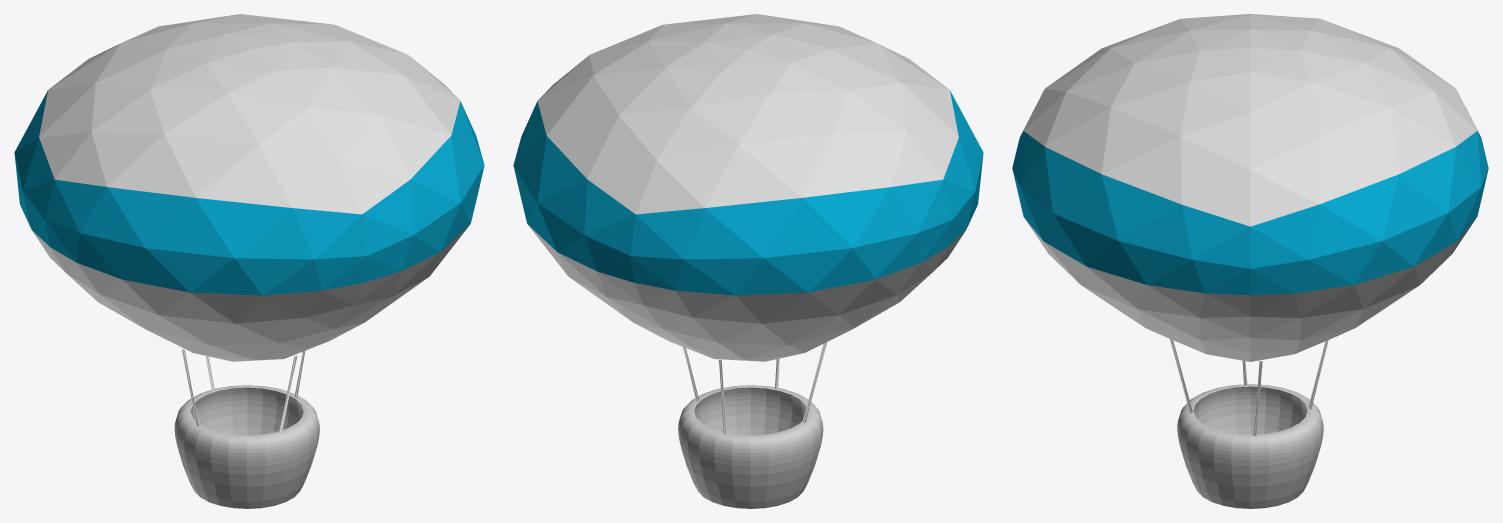
3 views of the same model, side by side, from view 1: azimuth 30°, elevation 25°; view 2: azimuth 150°, elevation 25°; view 3: azimuth 270°, elevation 25° (orthographic).
Parts seen in each view (by area): view 1: 气球, 底座; view 2: 气球, 底座; view 3: 气球, 底座.
Boxes of the visible parts, x1=… form: 气球: x1=14, y1=14, x2=484, y2=361; 底座: x1=174, y1=385, x2=319, y2=508; 气球: x1=513, y1=14, x2=983, y2=361; 底座: x1=678, y1=385, x2=823, y2=508; 气球: x1=1012, y1=14, x2=1488, y2=361; 底座: x1=1177, y1=384, x2=1323, y2=508.
Size of the model in its own units: 576 by 586 by 576.
